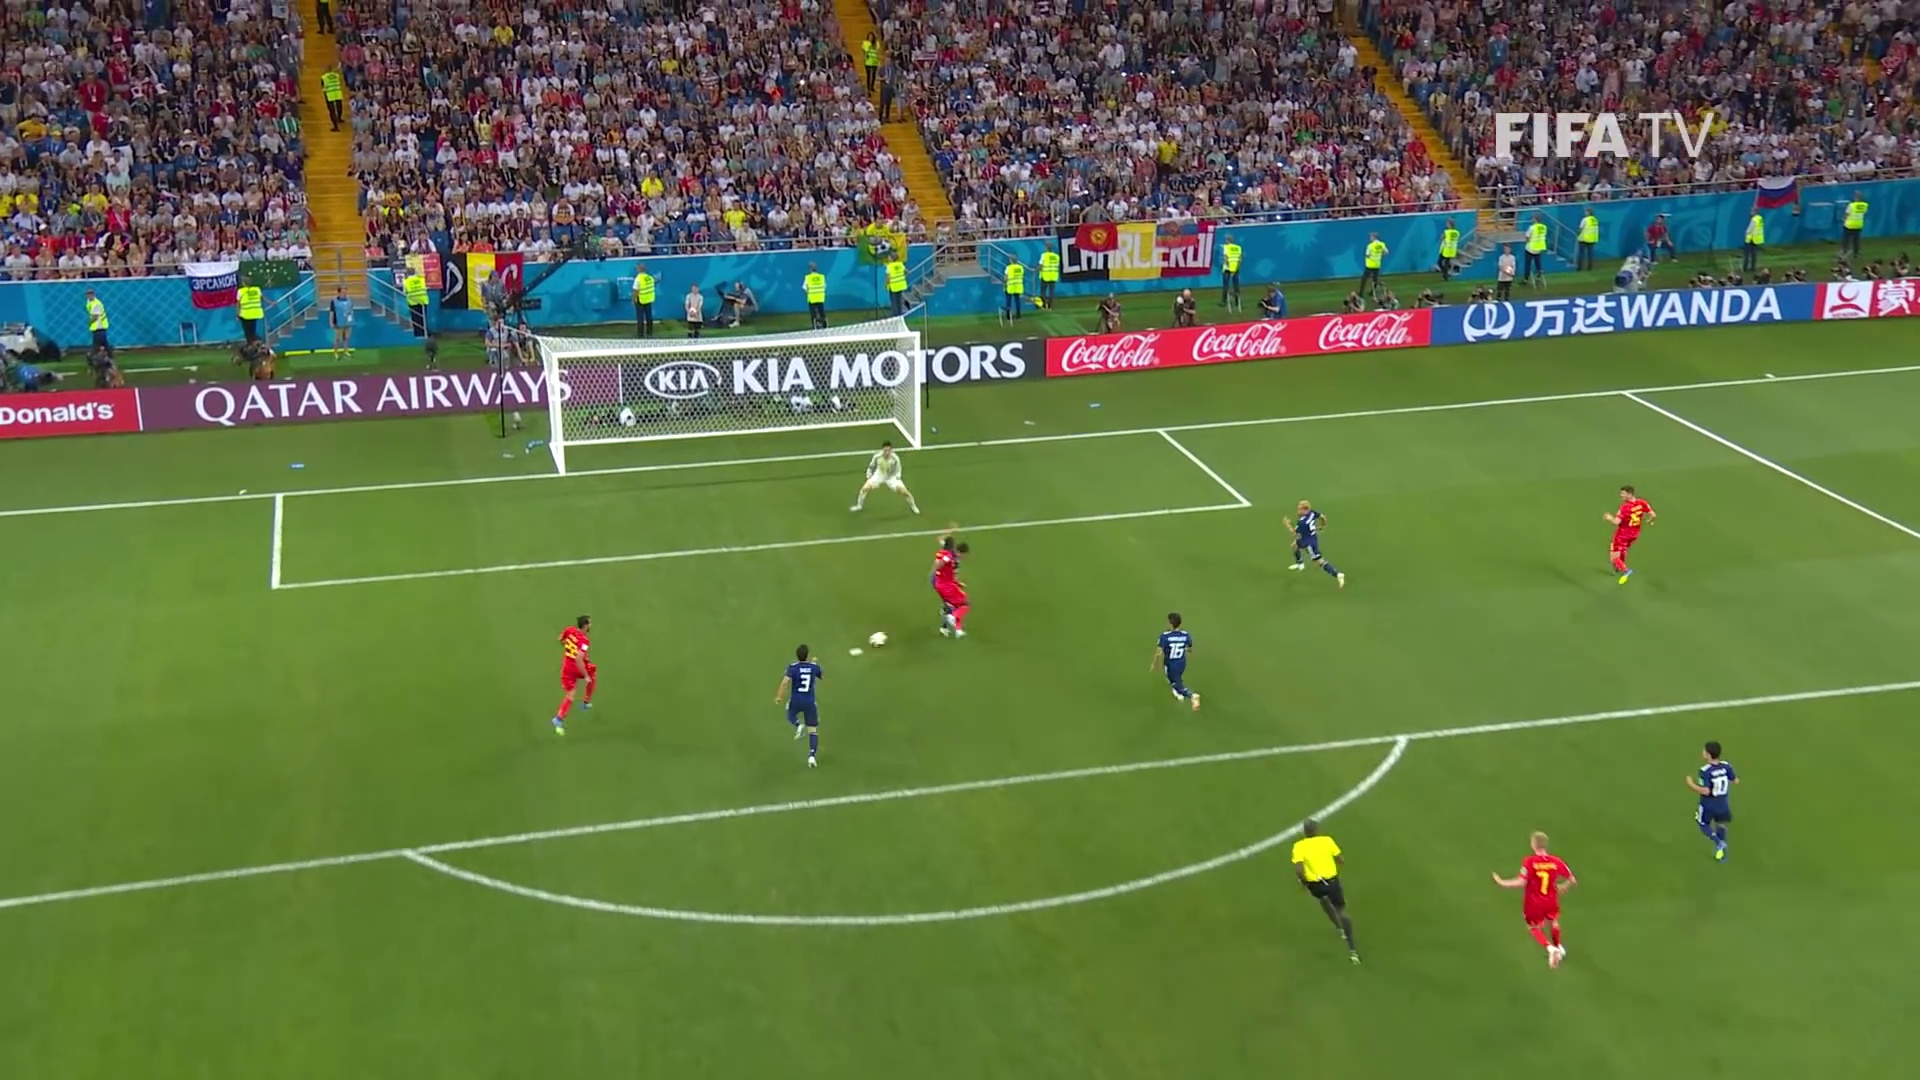ball: (870, 632, 887, 649)
person: (1492, 826, 1575, 967), (778, 646, 821, 770), (554, 612, 597, 734), (853, 440, 922, 515), (1284, 499, 1343, 585), (1692, 744, 1735, 855), (1607, 483, 1653, 585), (1157, 607, 1202, 704), (932, 528, 970, 639)
